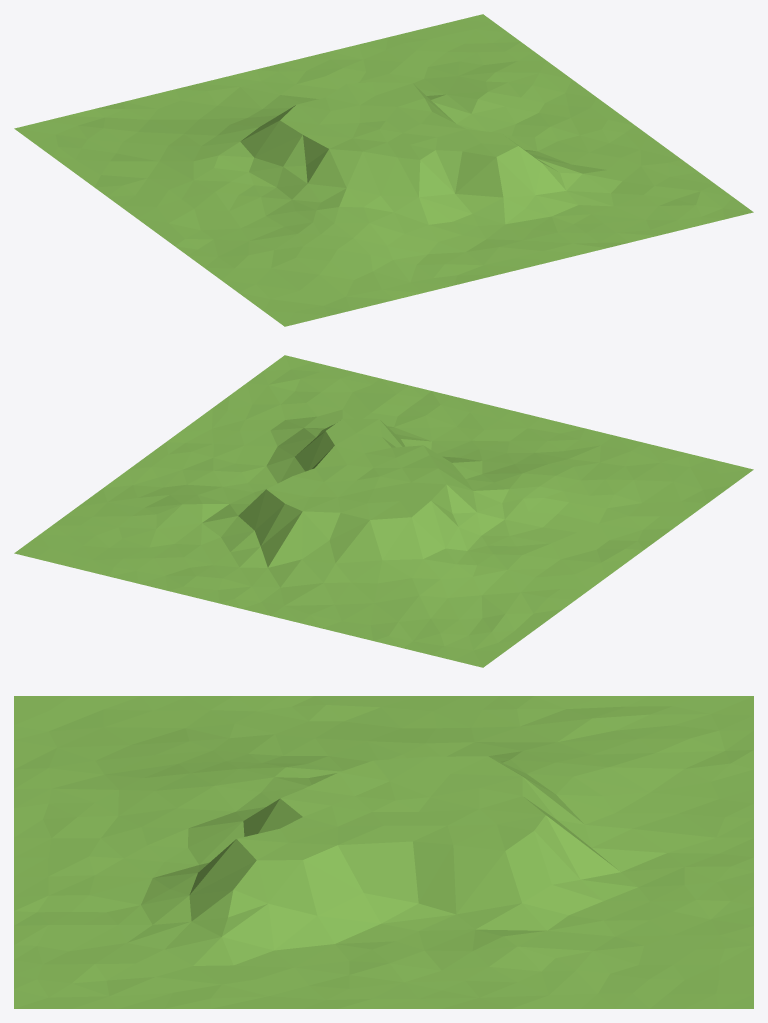
The model's file is MT_Terrain_M_c_22_LOD.fbx.
3 renders of one model, top to bottom at view 1: azimuth 30°, elevation 25°; view 2: azimuth 150°, elevation 25°; view 3: azimuth 270°, elevation 25°, orthographic. The views are drawn at different scales.
Visible parts, largest first — view 1: MT_Terrain_M_c_22_LOD0; view 2: MT_Terrain_M_c_22_LOD0; view 3: MT_Terrain_M_c_22_LOD0.
Boxes of the visible parts, bbox=[...] form: MT_Terrain_M_c_22_LOD0: bbox=[14, 14, 753, 326]; MT_Terrain_M_c_22_LOD0: bbox=[14, 355, 753, 667]; MT_Terrain_M_c_22_LOD0: bbox=[14, 696, 753, 1008].
Size of what is drawn, in the model's own units: 5000 by 418 by 5000.
